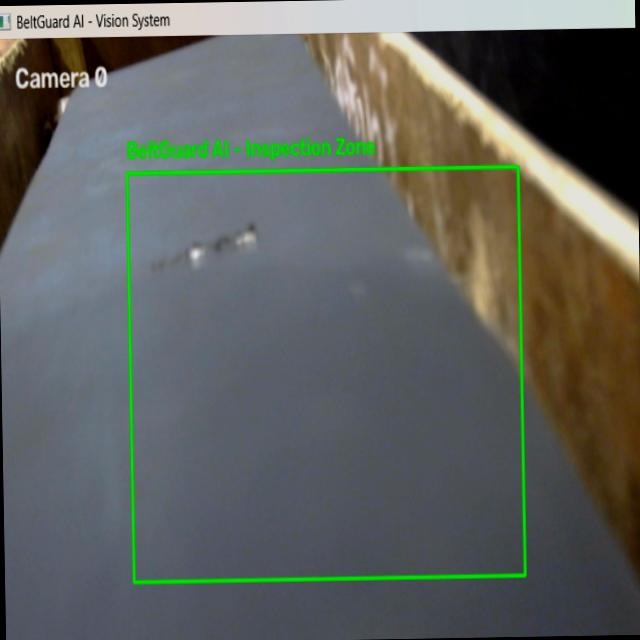scratch: (150, 220, 260, 271)
